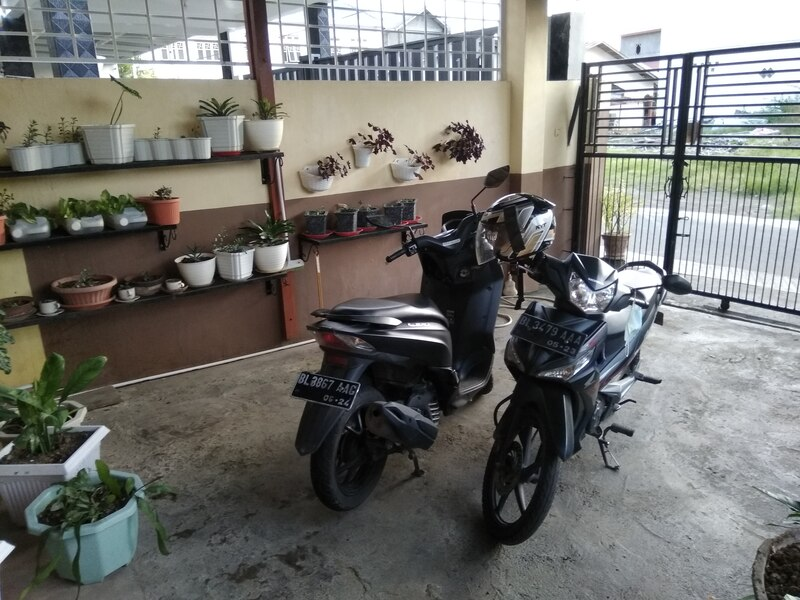motorcycle: (291, 163, 514, 516), (478, 227, 694, 554)
